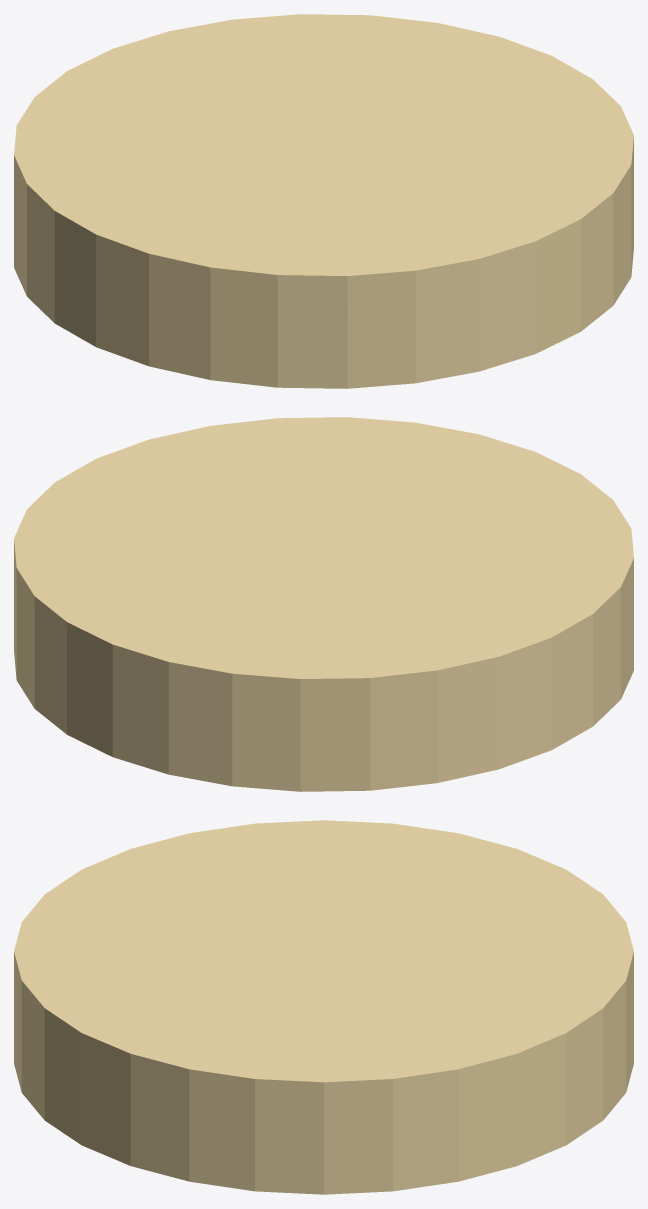
File: SM_S05_Base_Hero_P1.fbx
The picture shows the model from 3 angles, top to bottom: view 1: azimuth 30°, elevation 25°; view 2: azimuth 150°, elevation 25°; view 3: azimuth 270°, elevation 25°; orthographic projection.
Visible parts, largest first — view 1: SM_S05_Base_Hero_P1; view 2: SM_S05_Base_Hero_P1; view 3: SM_S05_Base_Hero_P1.
Part boxes in pixels (bbox=[...]): SM_S05_Base_Hero_P1: bbox=[14, 14, 633, 388]; SM_S05_Base_Hero_P1: bbox=[14, 417, 633, 791]; SM_S05_Base_Hero_P1: bbox=[14, 820, 633, 1194].
Size of the model in its own units: 30 by 30 by 6.
